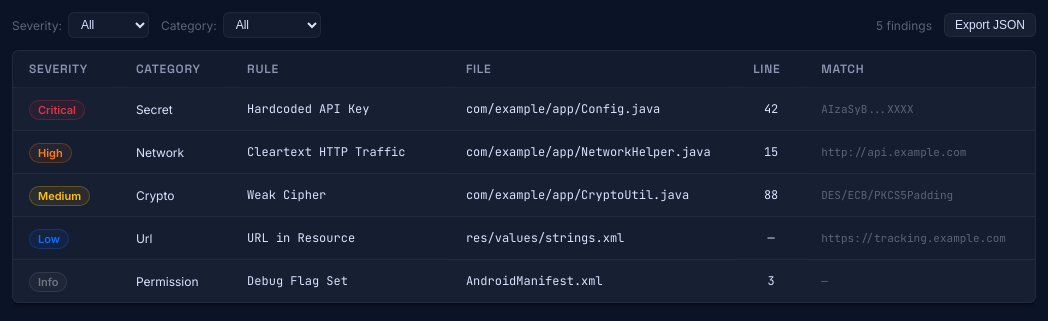
Scenario: FindingsTable › filtering › filters by severity (server-side)
Select "Critical" in the dropdown with test id "severity-filter" at (108, 25), box [68,12,149,38]
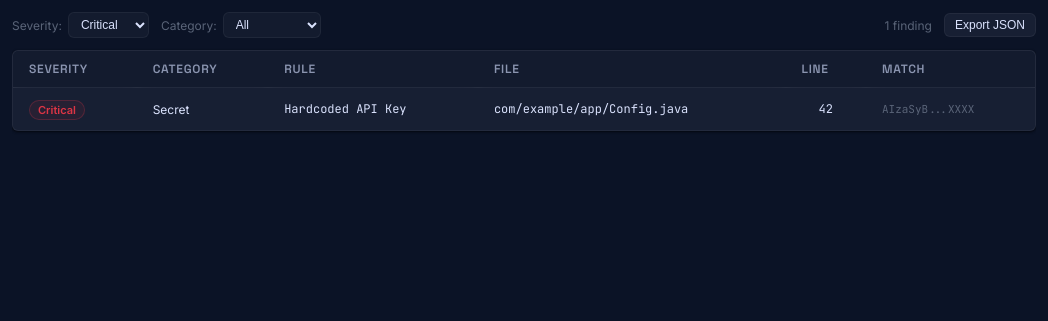
Expected: the row with test id "finding-row-1" is shown, [13,88,1035,130]
Expected: the row with test id "finding-row-2" is gone
